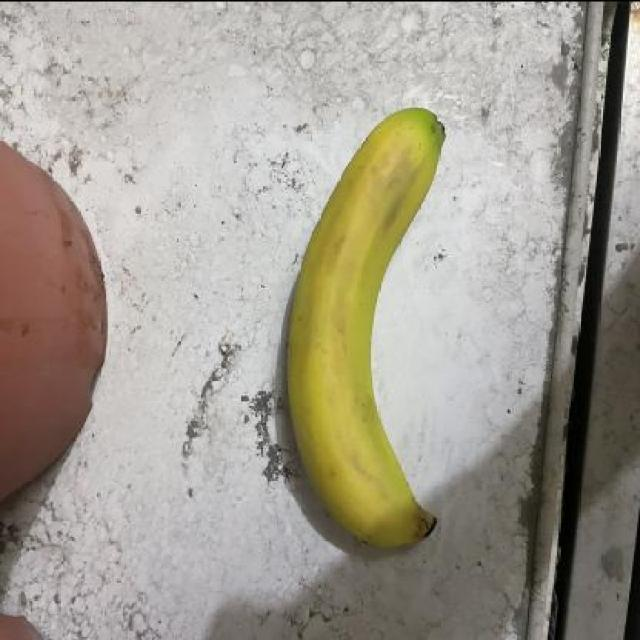banana: (278, 100, 450, 552)
